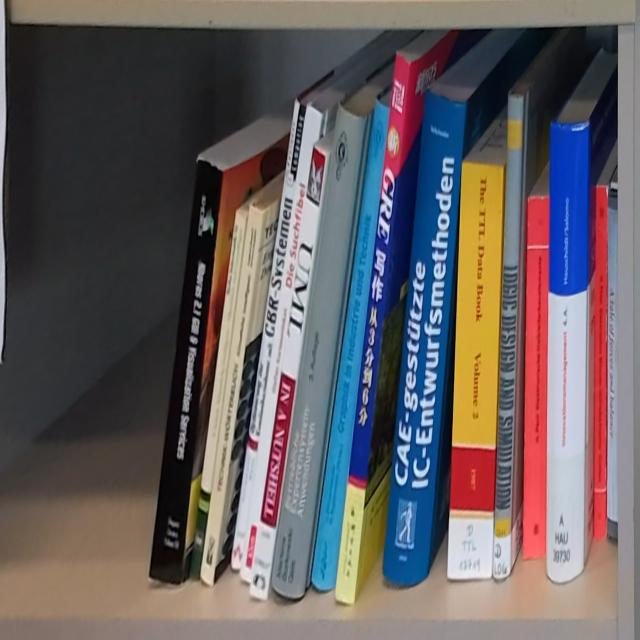Book Spine: (271, 106, 369, 599), (383, 91, 466, 585), (336, 53, 410, 604), (310, 96, 390, 590), (239, 105, 316, 582), (230, 95, 306, 568), (249, 145, 328, 600), (150, 156, 224, 584), (447, 161, 503, 579), (201, 207, 262, 587), (189, 207, 246, 578), (546, 122, 590, 583), (492, 96, 525, 583), (524, 197, 550, 560), (594, 186, 609, 540), (606, 194, 617, 541)
